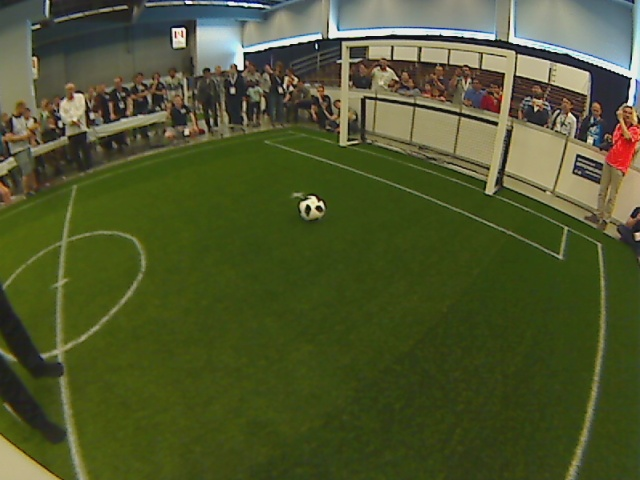ball: (297, 195, 328, 221)
